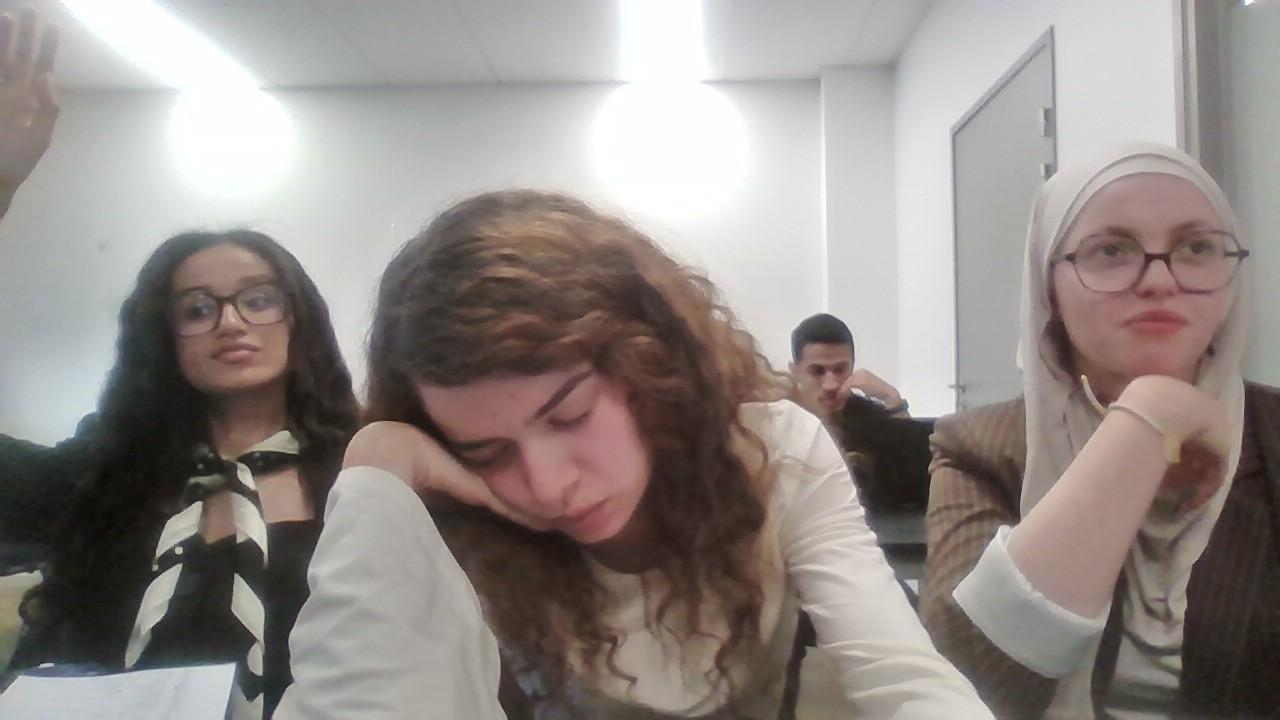Looking_Forward: (930, 116, 1280, 696), (774, 296, 943, 493)
Raising_Hand: (0, 0, 353, 629)
Sleeping: (285, 191, 992, 719)
